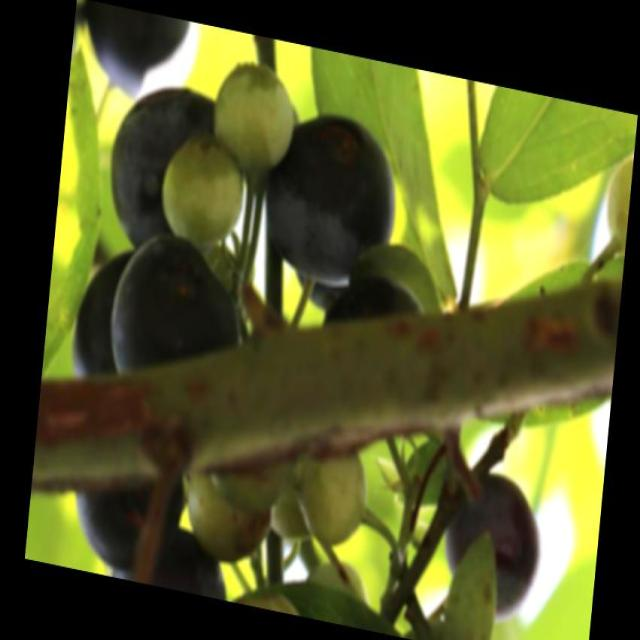blueberry: (268, 107, 403, 300), (105, 226, 248, 402), (106, 76, 227, 263), (439, 466, 547, 628), (68, 468, 182, 578), (80, 0, 195, 102), (73, 238, 132, 392), (317, 271, 421, 349)
blueberry-unripe: (211, 60, 298, 177), (159, 136, 244, 255), (182, 466, 271, 569), (294, 445, 369, 551)
